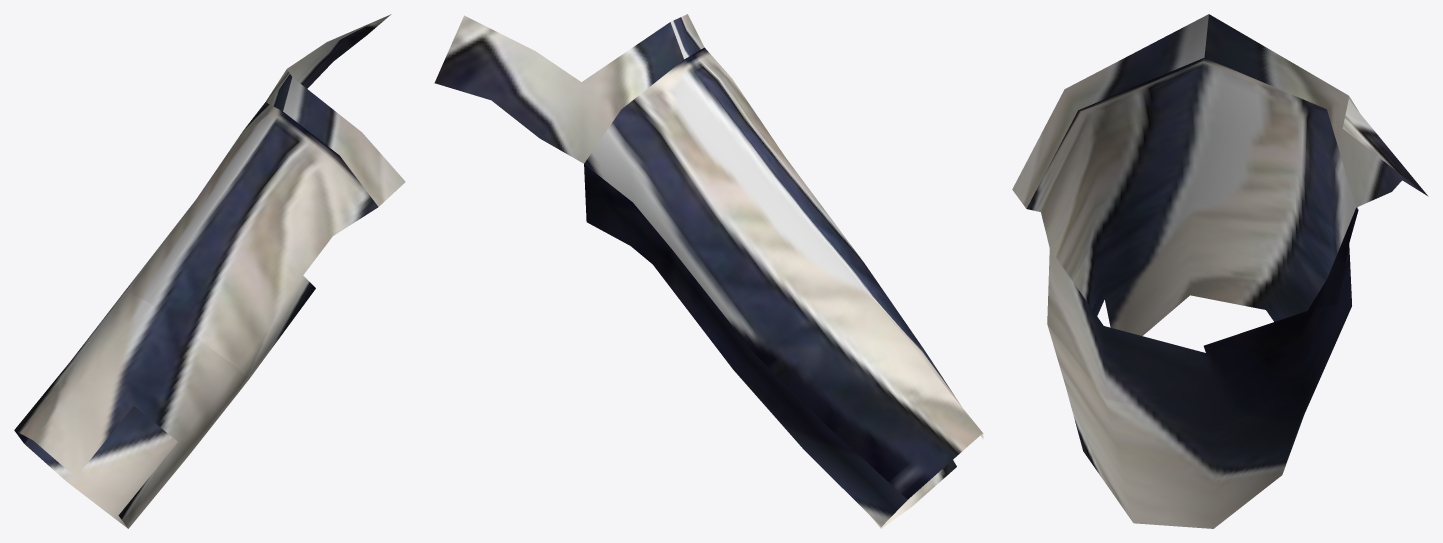
The model's file is BicepD.obj.
The picture shows the model from 3 angles, left to right: view 1: azimuth 30°, elevation 25°; view 2: azimuth 150°, elevation 25°; view 3: azimuth 270°, elevation 25°; orthographic projection. The views are drawn at different scales.
Parts seen in each view (by area): view 1: BicepD; view 2: BicepD; view 3: BicepD.
Boxes of the visible parts, left/top/right/bottom form: BicepD: left=14, top=14, right=405, bottom=528; BicepD: left=434, top=14, right=983, bottom=528; BicepD: left=1012, top=14, right=1428, bottom=528.
Bounding box in the file's own units: 1.26 × 1.17 × 0.6604.
Materials: 1 (1 with a texture image).
